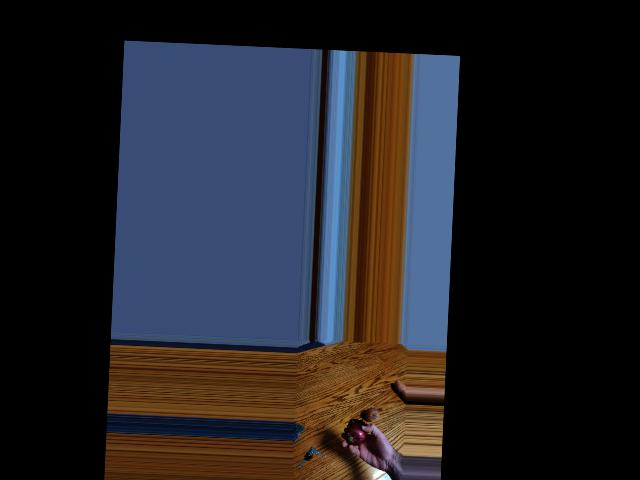onion: (365, 405, 381, 422)
